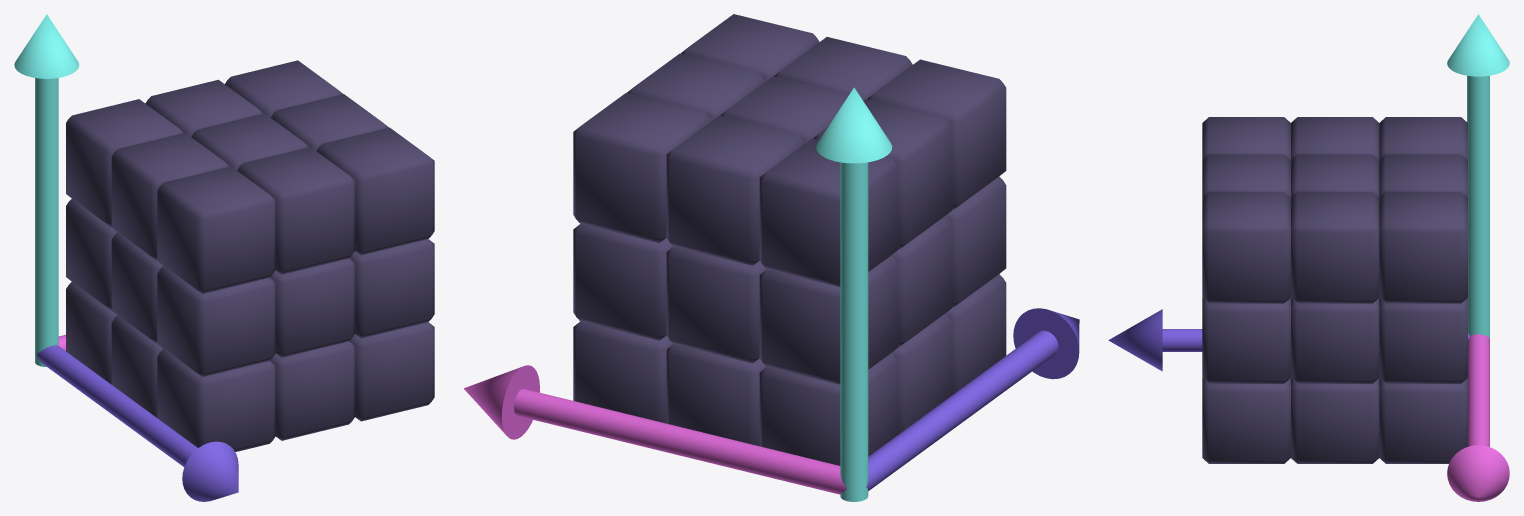
The model's file is basic-scene.gltf.
3 renders of one model, left to right at view 1: azimuth 30°, elevation 25°; view 2: azimuth 150°, elevation 25°; view 3: azimuth 270°, elevation 25°, orthographic. The views are drawn at different scales.
Visible parts, largest first — view 1: cube, axisY, axisZ; view 2: cube, axisY, axisX, axisZ; view 3: cube, axisY, axisX, axisZ.
Boxes of the visible parts, x1,y1,x2,y2 form: cube: (66,60,434,451); axisY: (14,14,79,366); axisZ: (36,345,238,501); cube: (573,14,1006,465); axisY: (816,87,892,501); axisX: (464,365,846,494); axisZ: (866,308,1079,490); cube: (1202,117,1467,463); axisY: (1447,14,1509,338); axisX: (1447,334,1509,501); axisZ: (1108,309,1469,371).
Bounding box in the file's own units: 3.64 × 3.54 × 3.63.
